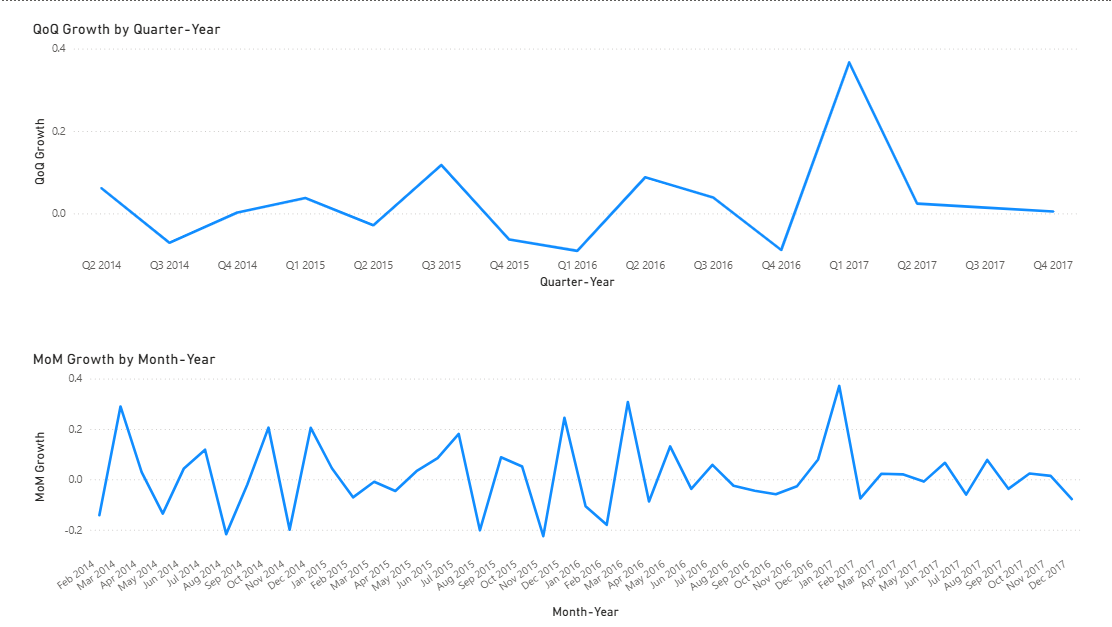

Layout of this report page (visuals, bound fields, positions):
{"tool":"powerbi","page":{"name":"MoM & QoQ Growth","canvas":[1280,720],"ordinal":3},"visuals":[{"type":"lineChart","fields":{"Category":["CalenderMaster.Quarter-Year"],"Y":["FactSales.QoQ Growth"]},"box":[36.2,21.2,1207.5,312.5],"z":0},{"type":"lineChart","fields":{"Y":["FactSales.MoM Growth"],"Category":["CalenderMaster.Month-Year"]},"box":[36.2,398.8,1207.5,312.5],"z":1000}]}

Visuals, with their boxes in screenshot pixels (x1, y1, x2, y2), scaled from the page's 1280x720 canvas onto the 1112x627 screenshot:
lineChart - CalenderMaster.Quarter-Year x FactSales.QoQ Growth: (31,18,1080,291)
lineChart - FactSales.MoM Growth x CalenderMaster.Month-Year: (31,347,1080,619)
